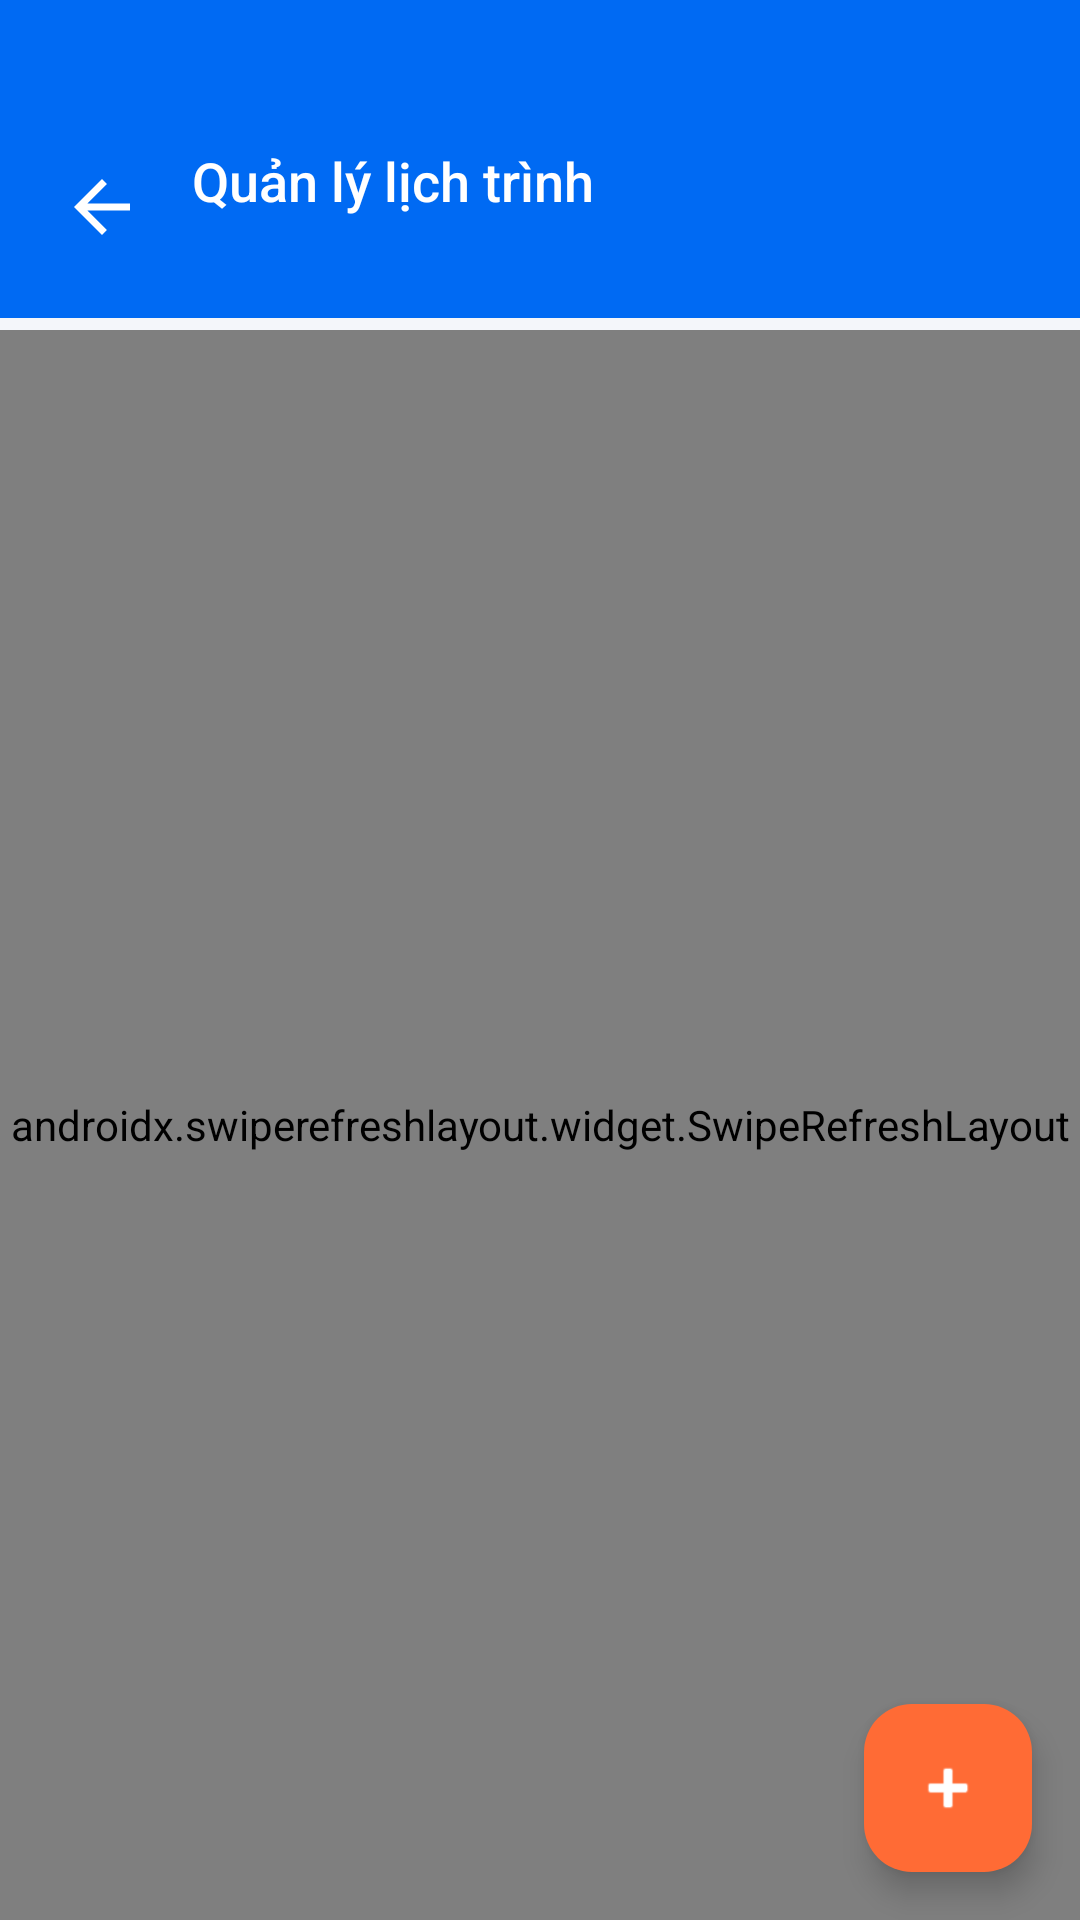

Point at icon controls on the screen. Image size 1080px x 1920px, points as point (x, y).
arrow back: point (102, 207)
Thêm lịch trình: point (948, 1788)
